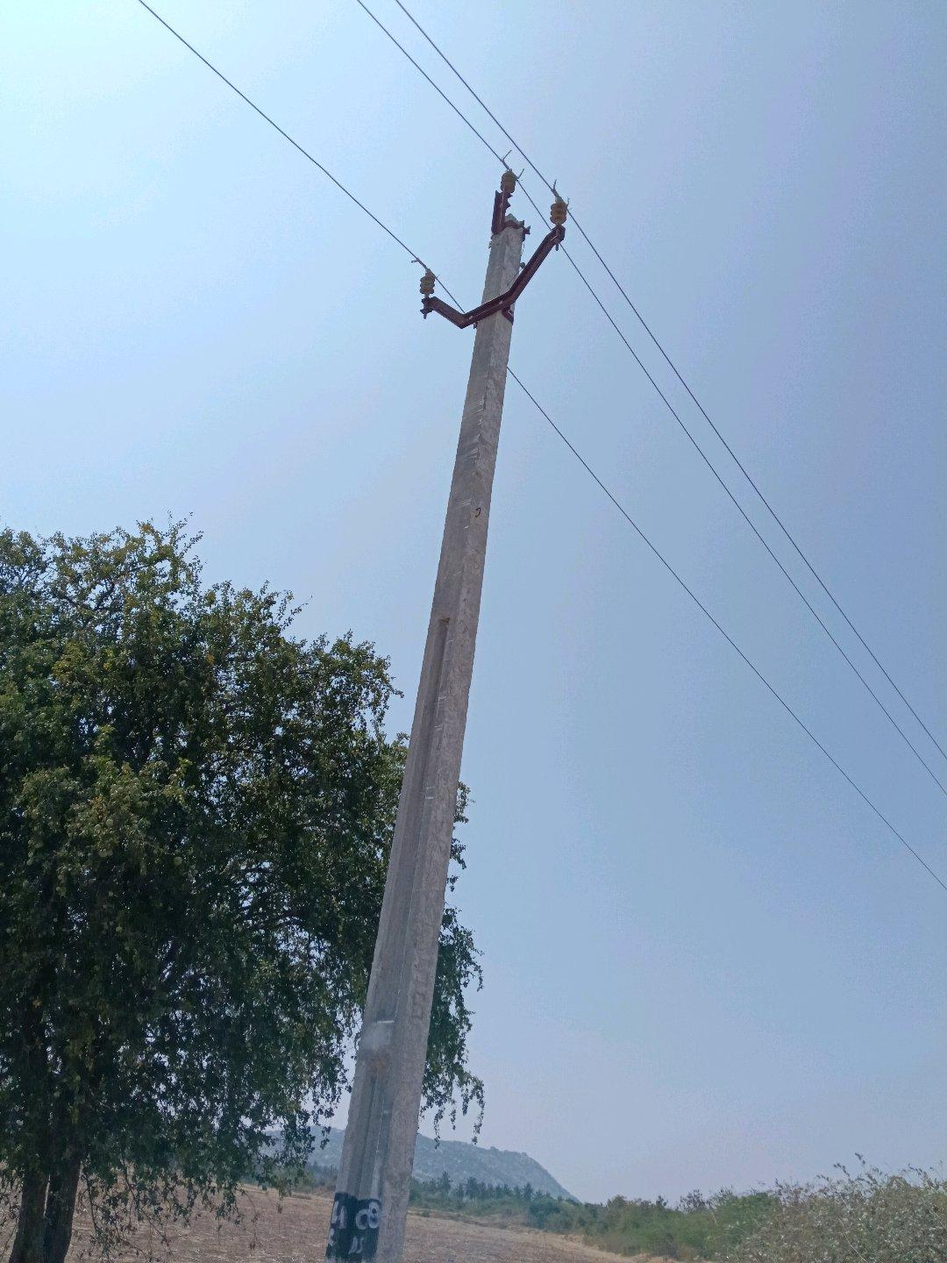{"0" "insulator", "1" "pole", "2" "crossarm", "3" "conductor", "4" "street_: (326, 174, 566, 1262), (562, 437, 573, 453), (578, 456, 587, 468), (426, 273, 428, 281), (593, 476, 596, 481)
